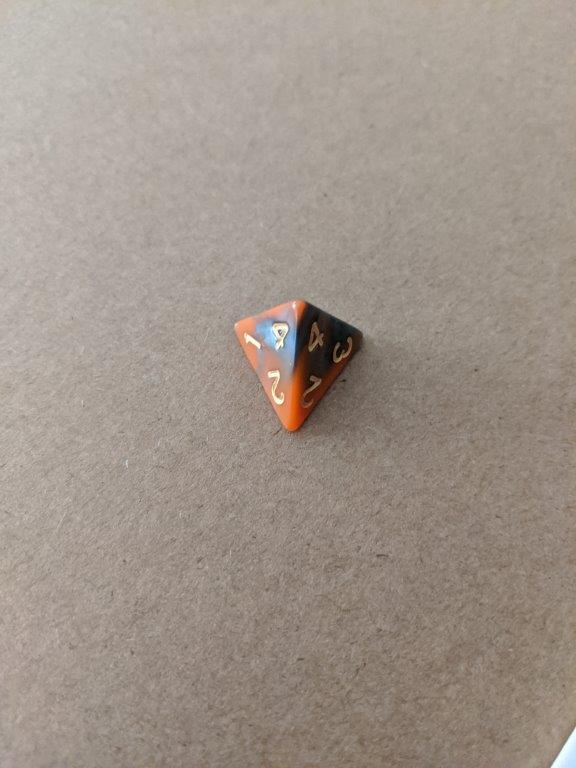d4-4: (229, 296, 366, 436)
